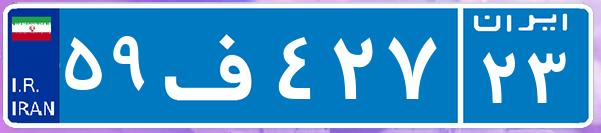2: (330, 28, 385, 110), (475, 38, 525, 113)
3: (525, 38, 570, 115)
4: (273, 28, 330, 110)
5: (57, 26, 110, 107)
7: (385, 28, 445, 110)
9: (110, 28, 158, 105)
ف: (158, 15, 273, 115)
